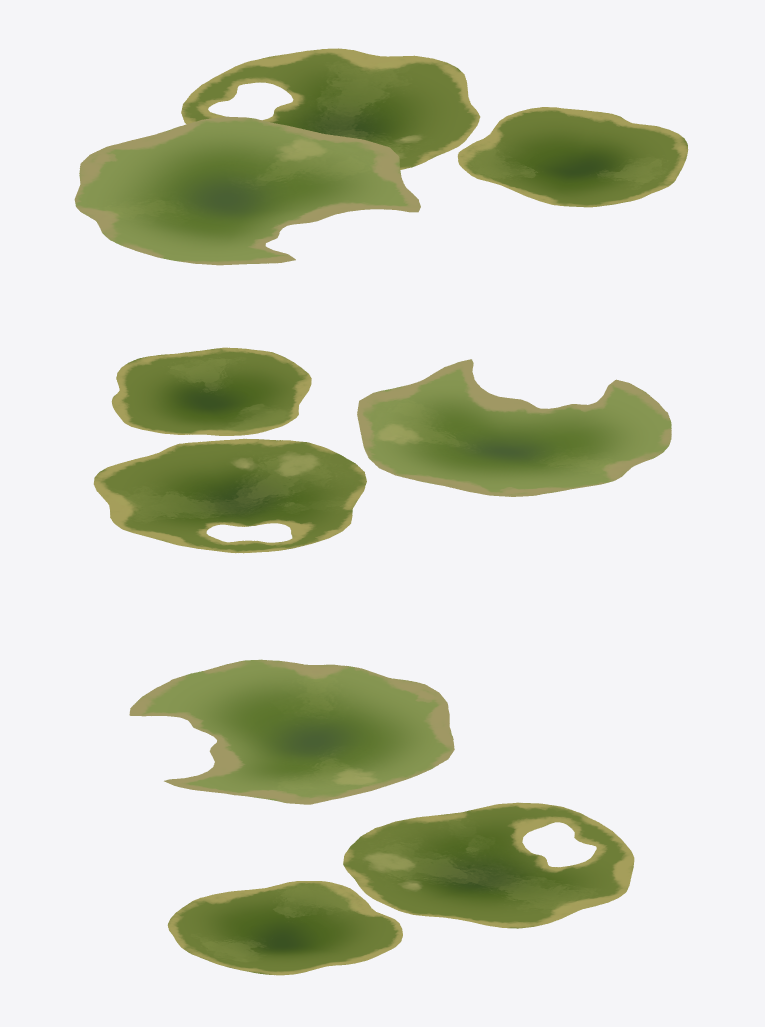
Rendered from small_plant01_jh.fbx.
3 renders of one model, top to bottom at view 1: azimuth 30°, elevation 25°; view 2: azimuth 150°, elevation 25°; view 3: azimuth 270°, elevation 25°, orthographic. The views are drawn at different scales.
Parts seen in each view (by area): view 1: middle_plant01_jh; view 2: middle_plant01_jh; view 3: middle_plant01_jh.
Part boxes in pixels (<box>): middle_plant01_jh: <box>74,48,688,265</box>; middle_plant01_jh: <box>93,347,671,553</box>; middle_plant01_jh: <box>129,659,634,975</box>.
Size of the model in its own units: 58.64 by 4.5 by 50.73.
